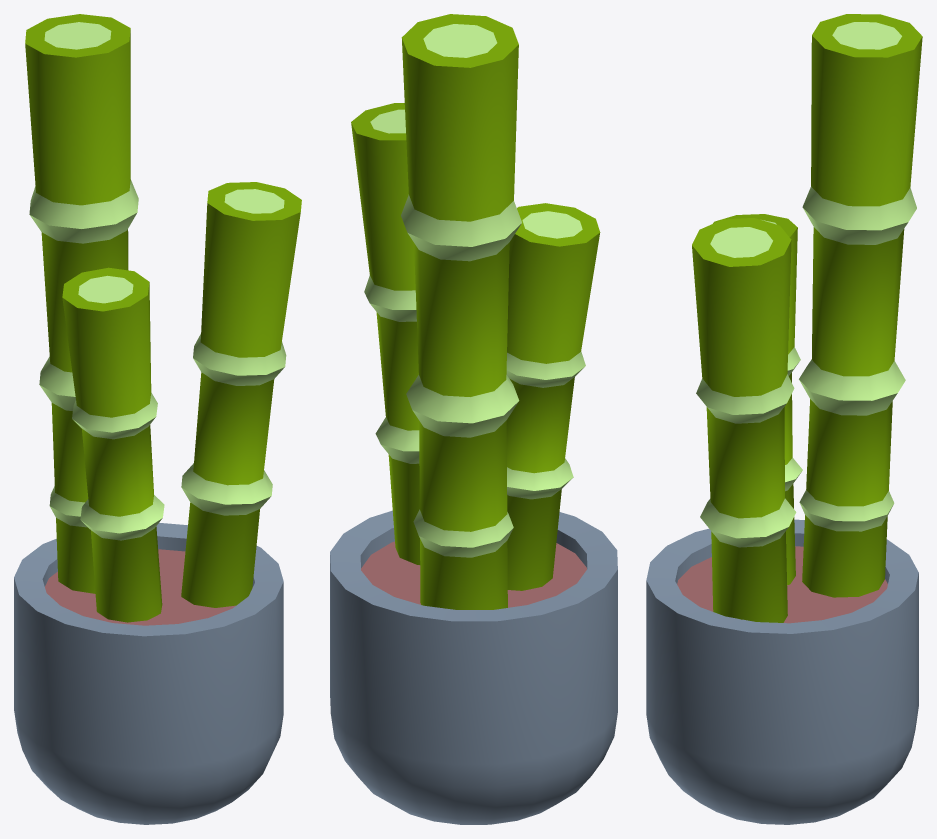
Rendered from bamboo.glb.
The picture shows the model from 3 angles, left to right: view 1: azimuth 30°, elevation 25°; view 2: azimuth 150°, elevation 25°; view 3: azimuth 270°, elevation 25°; orthographic projection. The views are drawn at different scales.
Parts seen in each view (by area): view 1: Decoration_Bamboo; view 2: Decoration_Bamboo; view 3: Decoration_Bamboo.
Boxes of the visible parts, <box> form: Decoration_Bamboo: <box>14,14,301,824</box>; Decoration_Bamboo: <box>330,14,617,824</box>; Decoration_Bamboo: <box>646,14,922,824</box>.
Bounding box in the file's own units: 0.9851 × 2.88 × 0.9567.
Materials: 1 (1 with a texture image).
